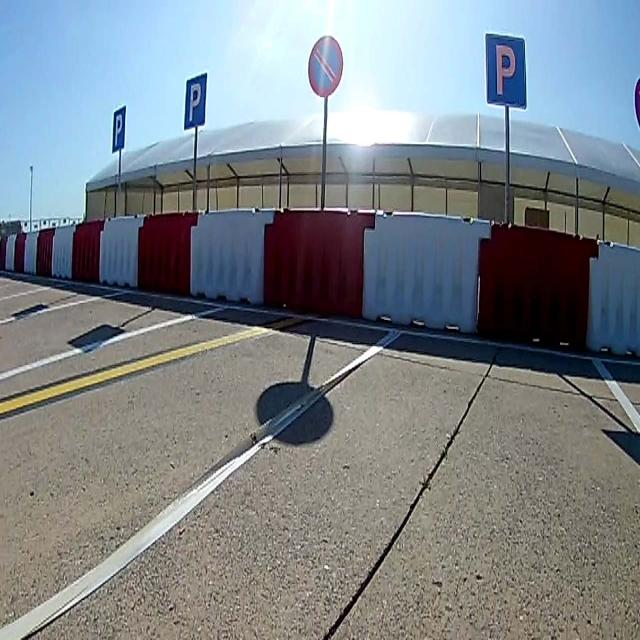park: (486, 33, 526, 110), (185, 73, 205, 125), (114, 106, 124, 151)
parkyasak: (309, 39, 343, 97)
